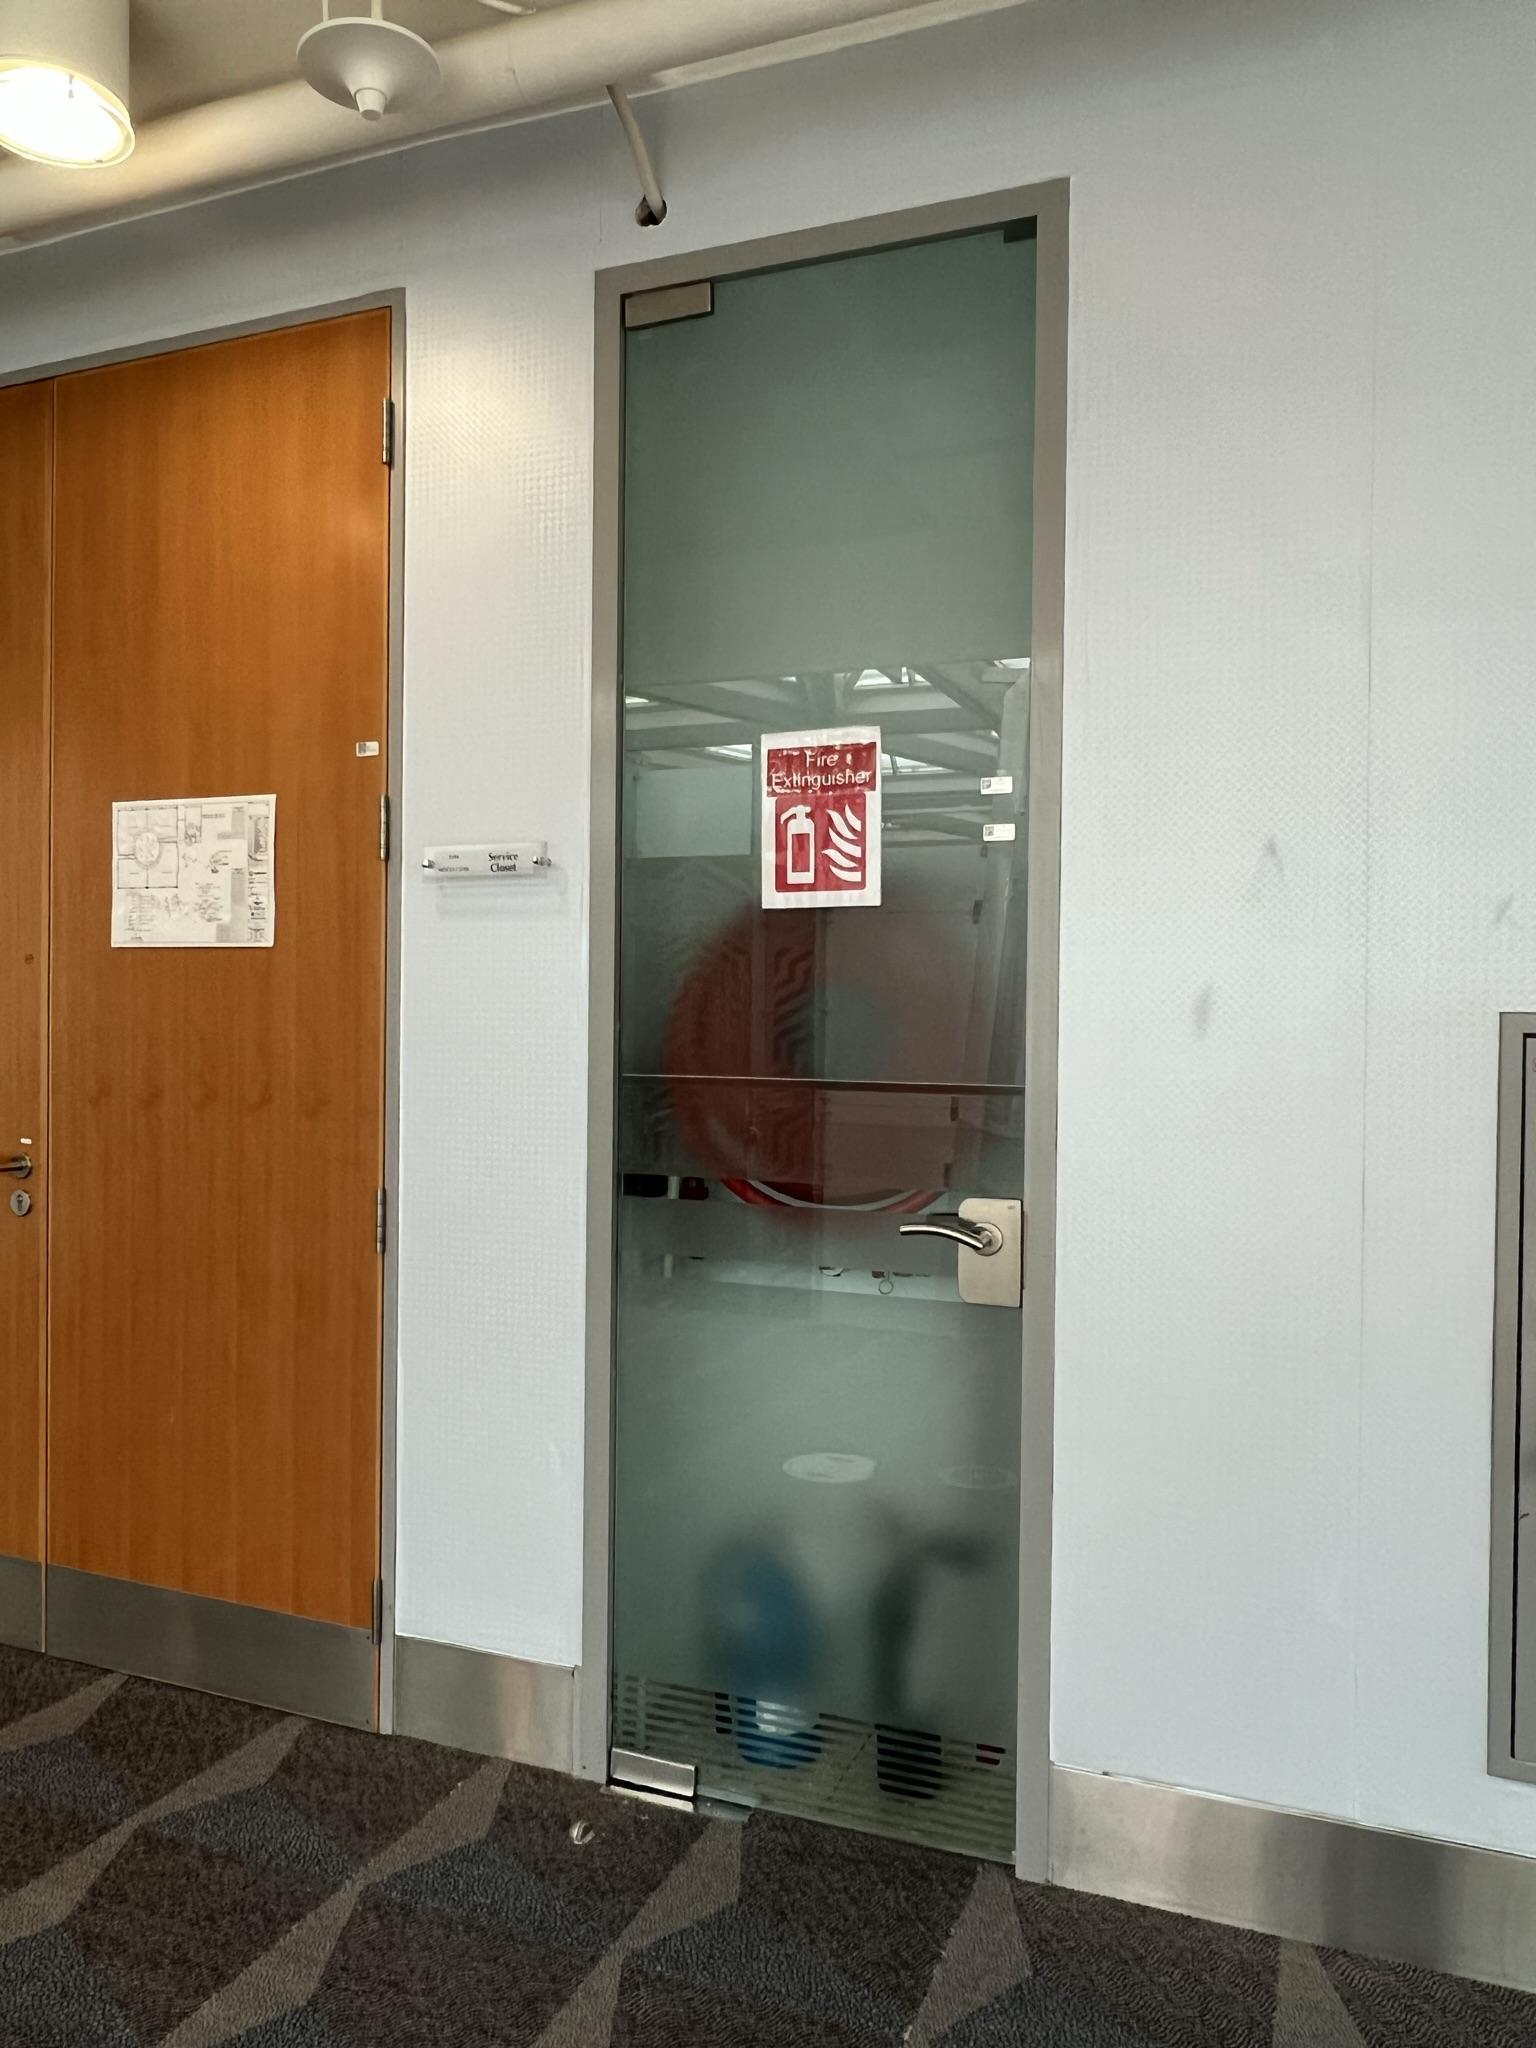door: (611, 240, 1062, 1871), (0, 331, 416, 1709)
handle: (887, 1192, 1033, 1330)
